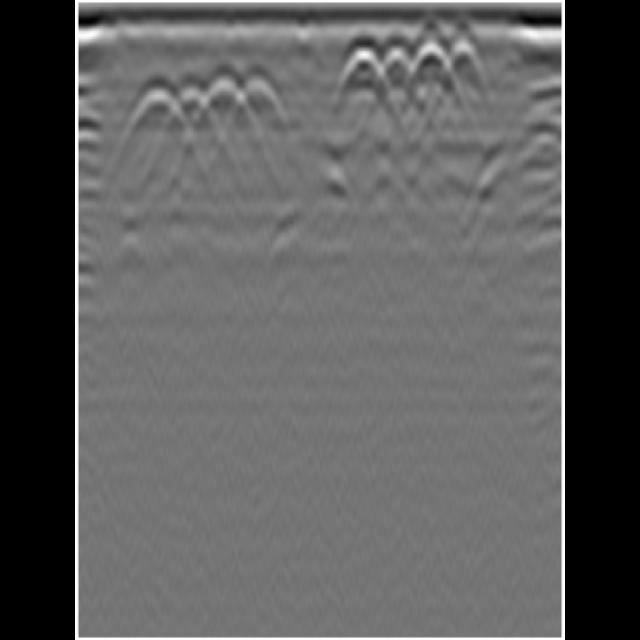hyperbola: (123, 88, 179, 136), (437, 30, 485, 86), (338, 48, 382, 108), (405, 36, 457, 84), (230, 71, 272, 127), (198, 74, 240, 128), (379, 42, 417, 98), (171, 85, 205, 132)
